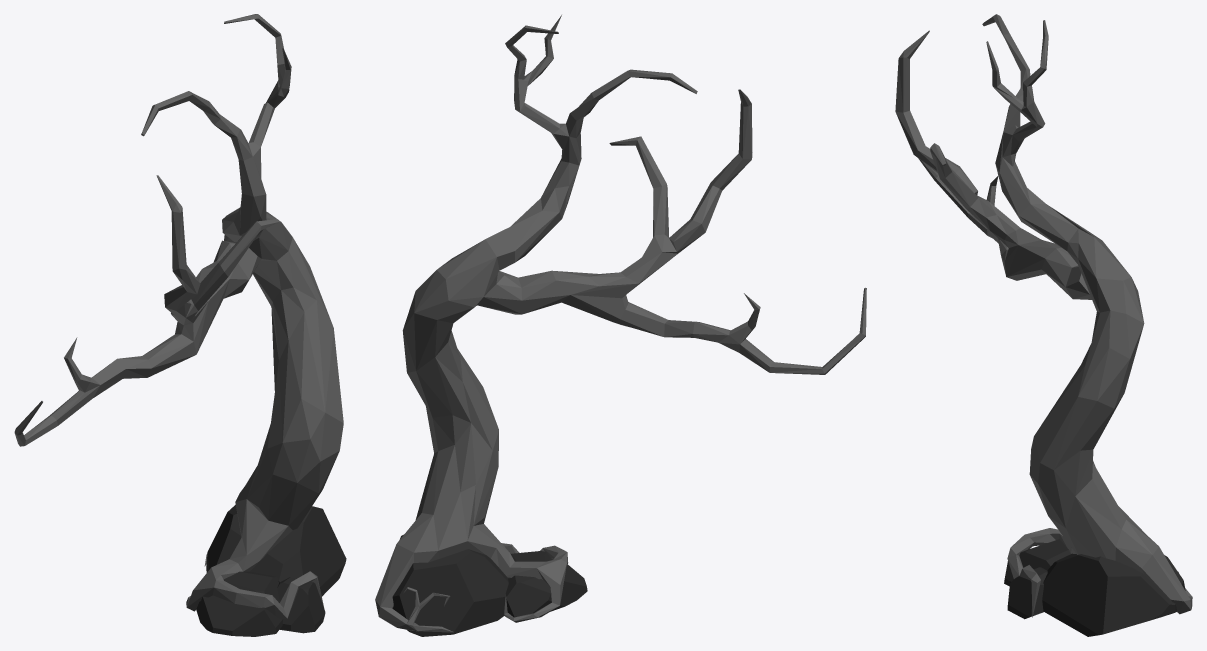
The model's file is HWN20_Tree_06.gltf.
3 renders of one model, left to right at view 1: azimuth 30°, elevation 25°; view 2: azimuth 150°, elevation 25°; view 3: azimuth 270°, elevation 25°, orthographic. The views are drawn at different scales.
Parts seen in each view (by area): view 1: HWN20_Tree_06_glb; view 2: HWN20_Tree_06_glb; view 3: HWN20_Tree_06_glb.
Part boxes in pixels (x1,y1,x2,y2): HWN20_Tree_06_glb: (14, 14, 346, 636); HWN20_Tree_06_glb: (375, 15, 866, 636); HWN20_Tree_06_glb: (895, 14, 1192, 636).
Size of what is drawn, in the model's own units: 5.84 by 8.09 by 3.89.
Materials: 1 (1 with a texture image).
